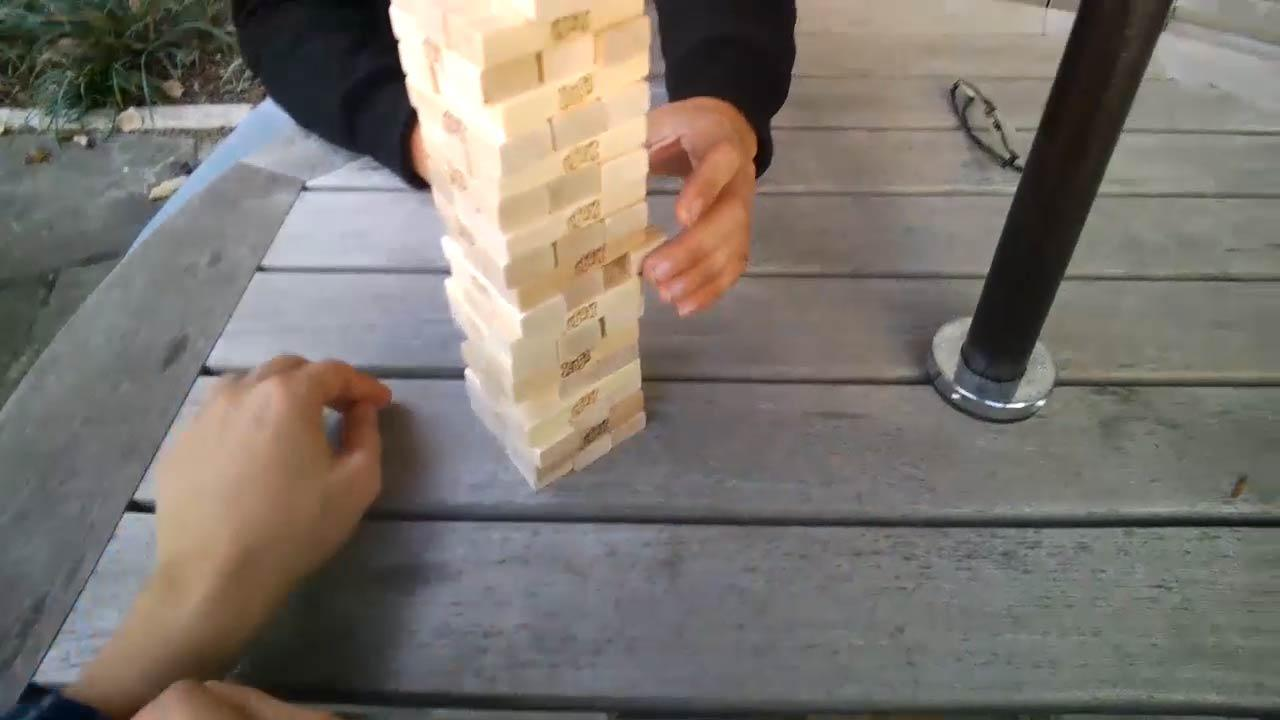hand: (145, 354, 389, 608), (643, 94, 756, 318)
